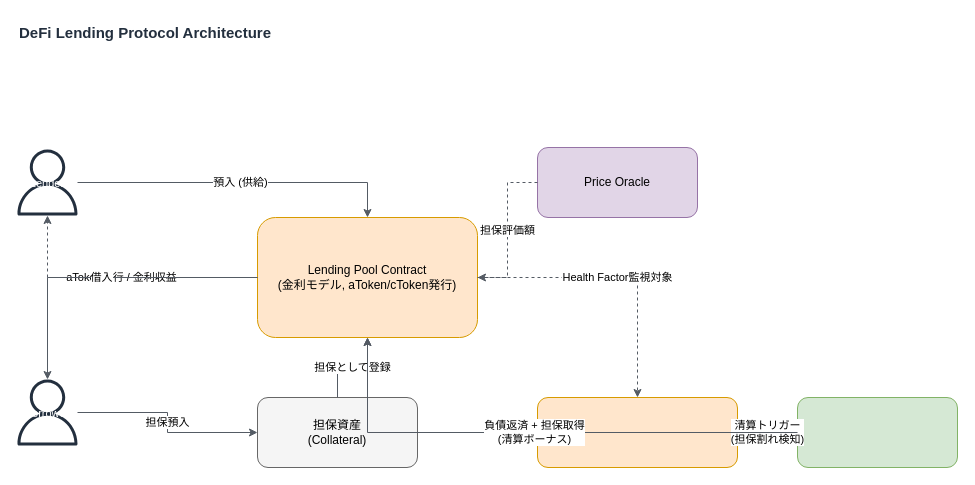
Some shapes in this 975 by 485 pixel diagram are drawn without their labels. The shapes that lost their labels are listed below. From the top down, each one's centre as x and y in pixels, then its label:
the point at 637,432: Liquidation Bot (Health Factor監視)
the point at 877,432: Liquidator (清算実行者)
